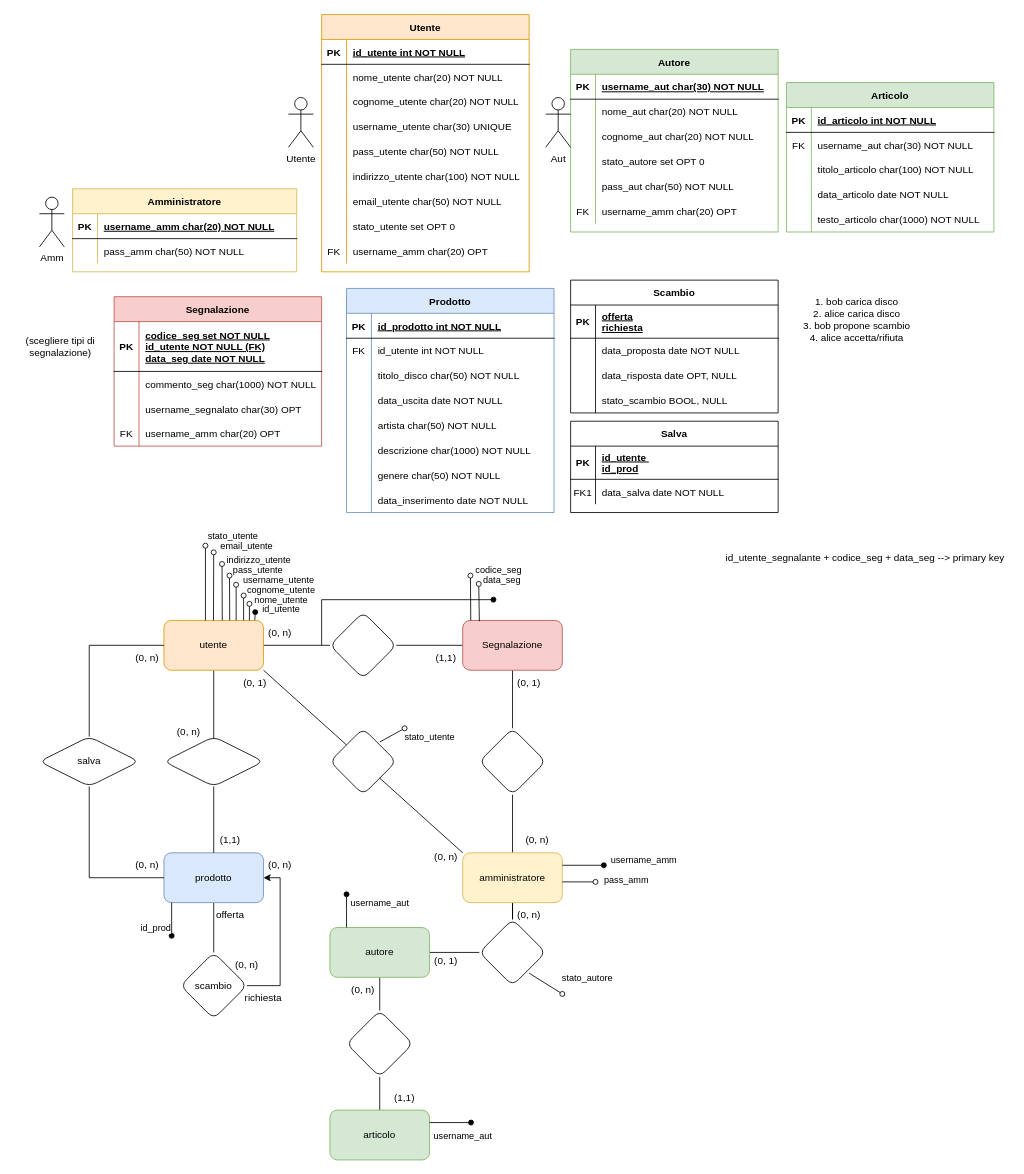
This 1024x1174 diagram has some shape labels left out. Here are the shapes that lost their labels. From the top down, the centre of each, then its label:
(x=362, y=645): fa
(x=213, y=761): carica
(x=362, y=761): gestisce_ut
(x=512, y=761): gestisce
(x=512, y=952): gestisce_aut
(x=379, y=1043): scrive
